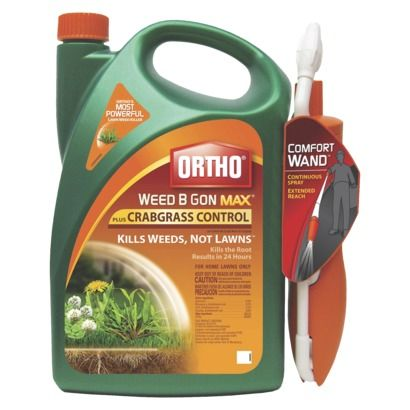crabgrass: (99, 296, 170, 344)
